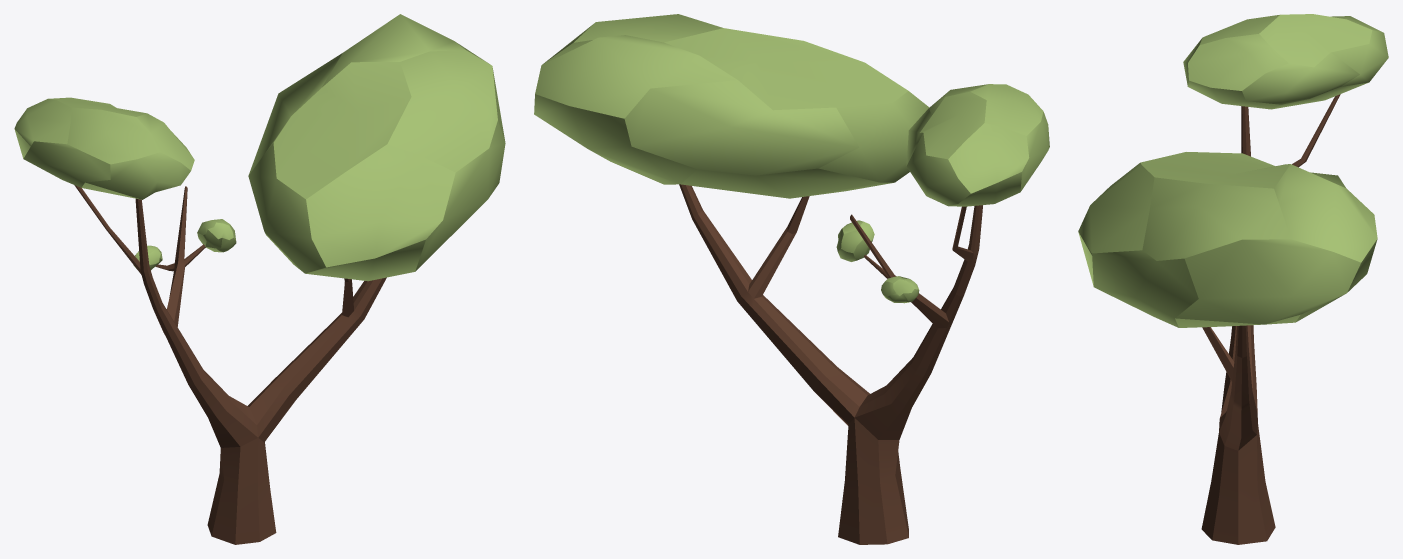
The model's file is tree_round_02.fbx.
3 renders of one model, left to right at view 1: azimuth 30°, elevation 25°; view 2: azimuth 150°, elevation 25°; view 3: azimuth 270°, elevation 25°, orthographic. The views are drawn at different scales.
Visible parts, largest first — view 1: tree_round_02; view 2: tree_round_02; view 3: tree_round_02.
Boxes of the visible parts, box(x1,y1,x2,y2) form: tree_round_02: box(14, 14, 505, 544); tree_round_02: box(534, 14, 1049, 544); tree_round_02: box(1078, 14, 1388, 544).
Bounding box in the file's own units: 4.52 × 4.16 × 2.57.
